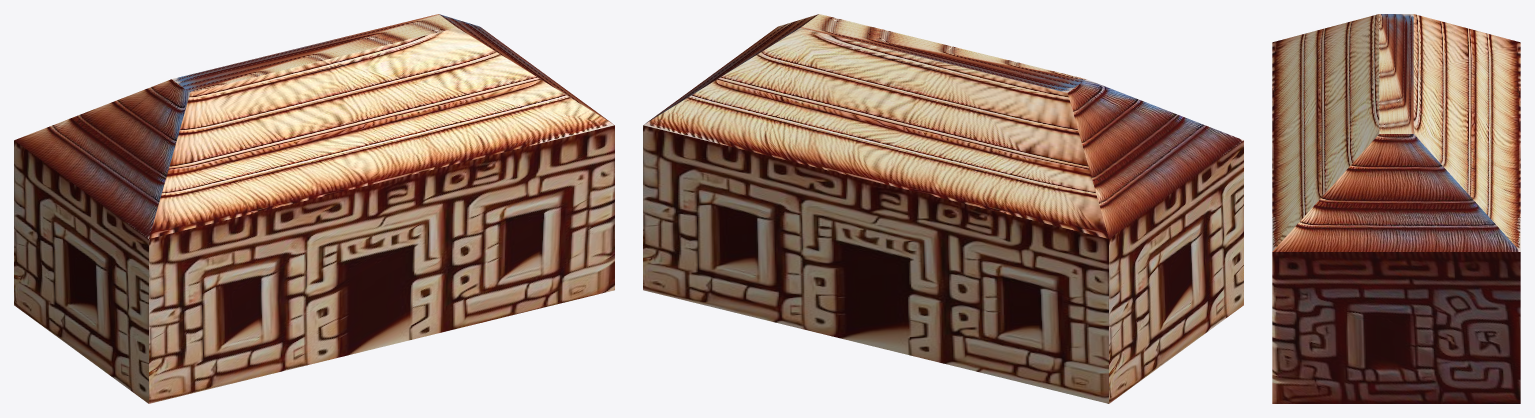
The model's file is house.fbx.
The picture shows the model from 3 angles, left to right: view 1: azimuth 30°, elevation 25°; view 2: azimuth 150°, elevation 25°; view 3: azimuth 270°, elevation 25°; orthographic projection. The views are drawn at different scales.
Visible parts, largest first — view 1: House; view 2: House; view 3: House.
Part boxes in pixels (left/top/right/bottom): House: left=14, top=14, right=614, bottom=403; House: left=643, top=14, right=1243, bottom=403; House: left=1272, top=14, right=1520, bottom=403.
Size of the model in its own units: 6.75 by 3.38 by 3.38.
